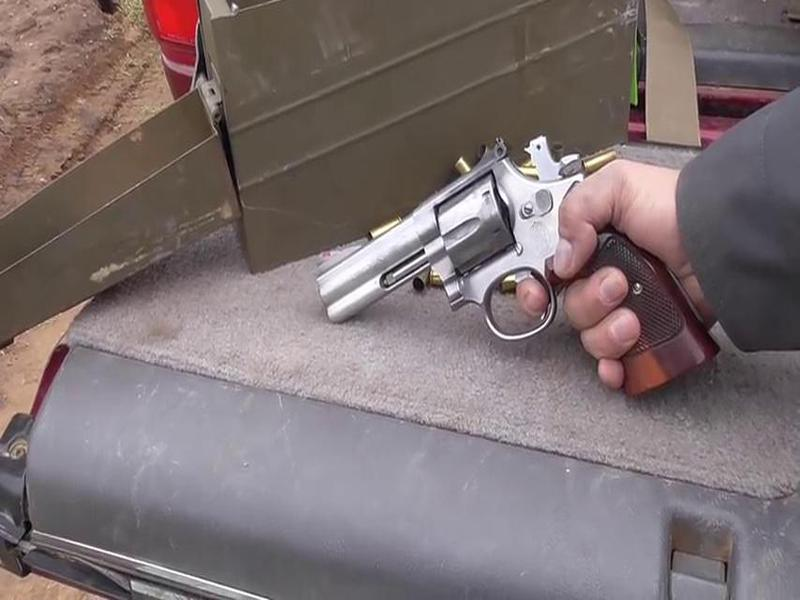Revolver: (317, 140, 639, 381)
